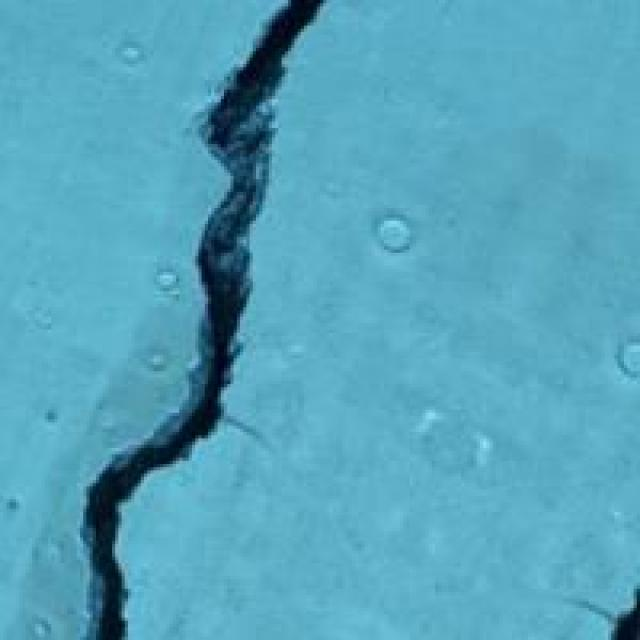crack: (80, 0, 371, 637)
